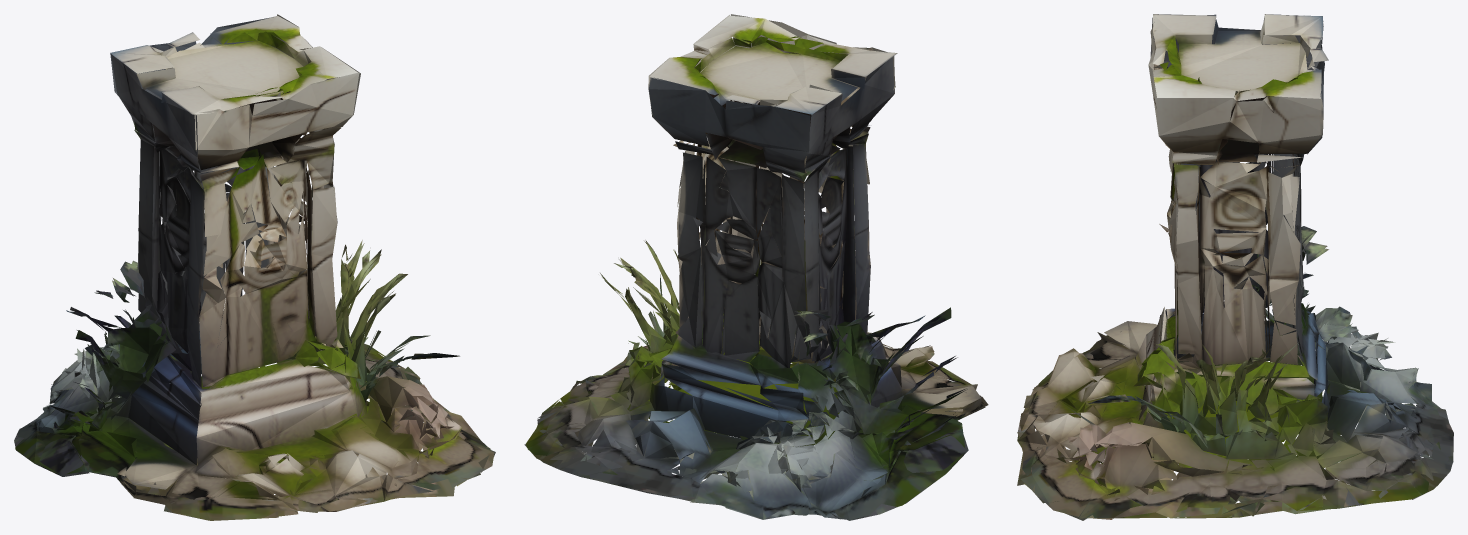
The model's file is decor_ruin_pillar.fbx.
3 renders of one model, left to right at view 1: azimuth 30°, elevation 25°; view 2: azimuth 150°, elevation 25°; view 3: azimuth 270°, elevation 25°, orthographic.
Visible parts, largest first — view 1: decor_ruin_pillar; view 2: decor_ruin_pillar; view 3: decor_ruin_pillar.
Boxes of the visible parts, x1,y1,x2,y2 form: decor_ruin_pillar: (14,14,495,520); decor_ruin_pillar: (524,14,988,520); decor_ruin_pillar: (1017,14,1453,520).
Bounding box in the file's own units: 3.34 × 3.2 × 3.31.
1 material, 1 textured.
